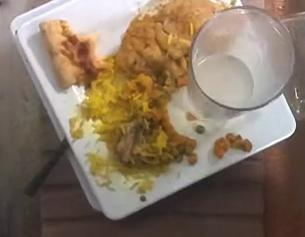carrots: (161, 113, 198, 165), (228, 133, 252, 151), (213, 137, 231, 158), (193, 123, 206, 134), (185, 111, 197, 121)
pizza_crust: (40, 20, 101, 89)
rice: (83, 73, 167, 165)
unknown: (116, 1, 214, 83)
